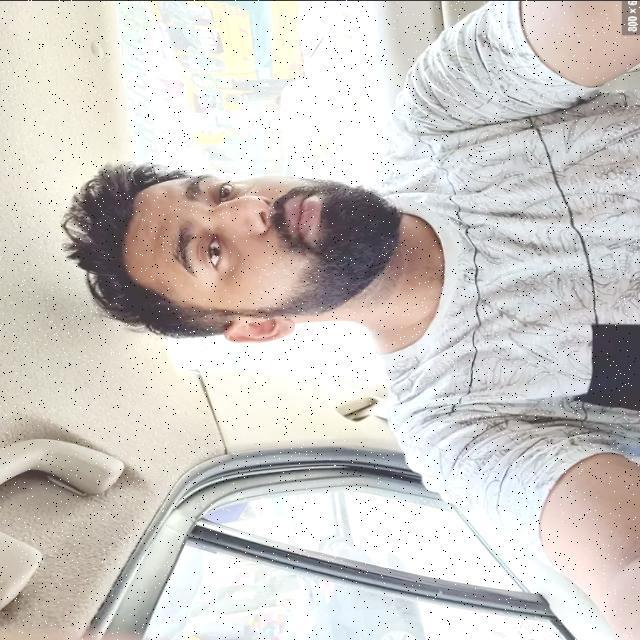face_no_mask: (122, 169, 384, 339)
